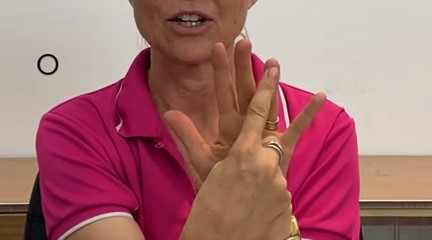O: (158, 33, 331, 240)
